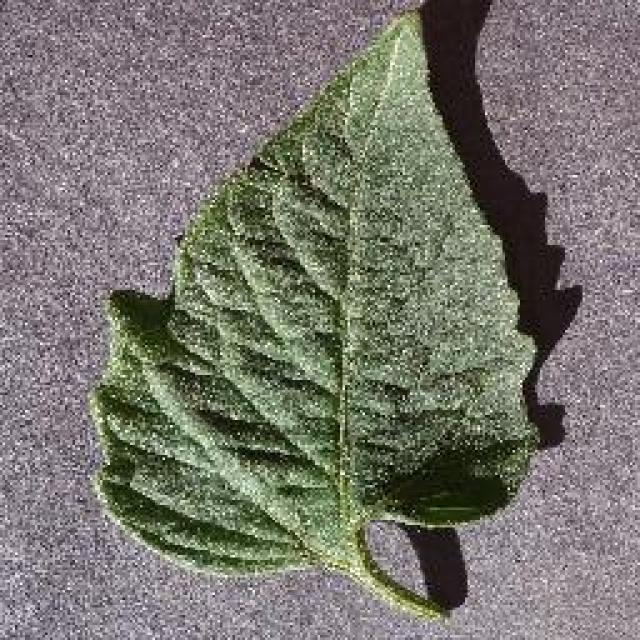healthy: (87, 13, 537, 620)
